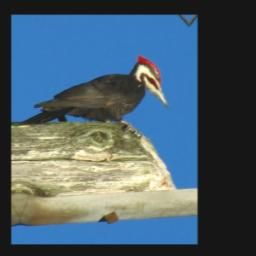Woodpecker: (16, 50, 170, 139)
